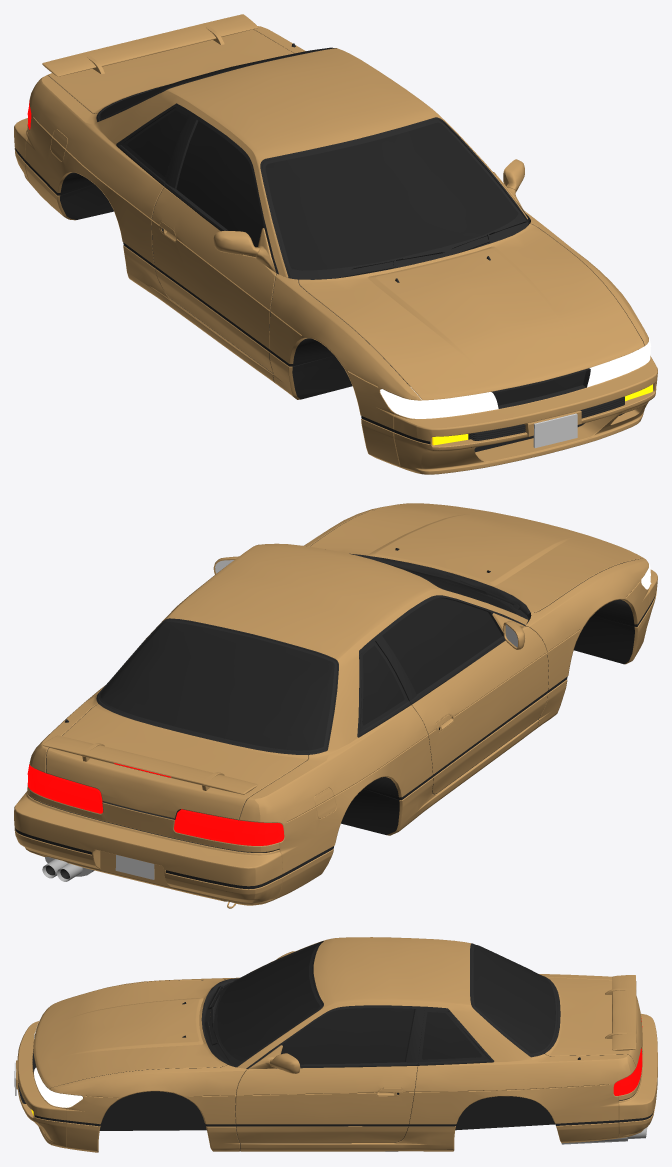
File: body.glb
3 views of the same model, one above another, from view 1: azimuth 30°, elevation 25°; view 2: azimuth 150°, elevation 25°; view 3: azimuth 270°, elevation 25° (orthographic). The views are drawn at different scales.
Visible parts, largest first — view 1: Nissan Silvia S13; view 2: Nissan Silvia S13; view 3: Nissan Silvia S13.
Boxes of the visible parts, x1=… form: Nissan Silvia S13: x1=14, y1=14, x2=657, y2=474; Nissan Silvia S13: x1=14, y1=503, x2=657, y2=908; Nissan Silvia S13: x1=14, y1=937, x2=657, y2=1152.
Bounding box in the file's own units: 0.8345 × 0.5088 × 2.01.
